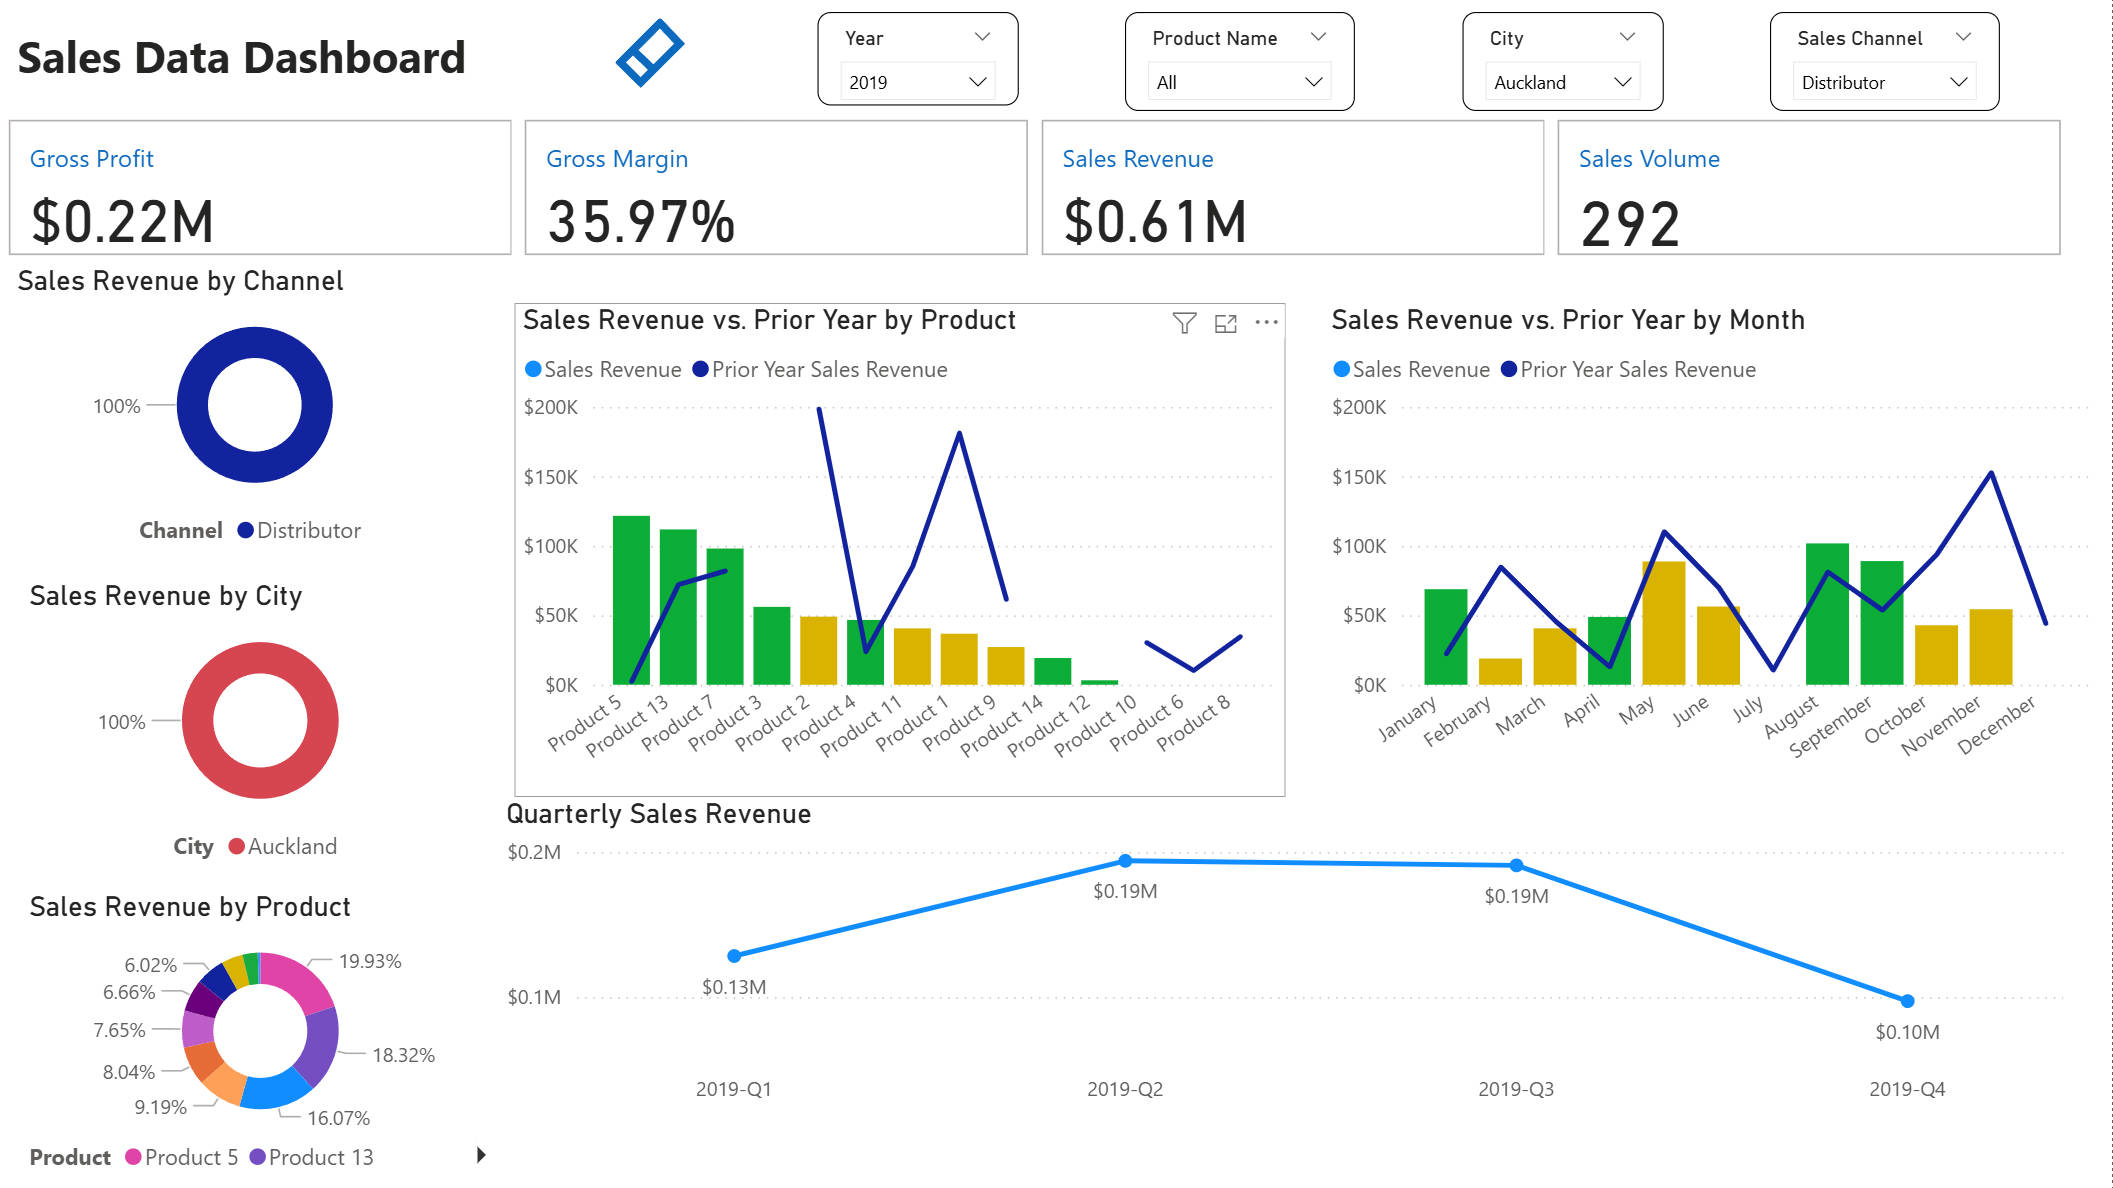

Layout of this report page (visuals, bound fields, positions):
{"tool":"powerbi","page":{"name":"Page 1","canvas":[1280,720],"ordinal":0},"visuals":[{"type":"slicer","fields":{"Values":["dDate.Year"]},"box":[495.5,7.3,121.8,56.4],"z":0},{"type":"slicer","fields":{"Values":["Products_Data.产品名称"]},"box":[682.1,7.3,139.1,60],"z":1000},{"type":"slicer","fields":{"Values":["Regions_Table.城市"]},"box":[886.1,7.3,121.8,60],"z":2000},{"type":"slicer","fields":{"Values":["Sales_Data.销售渠道"]},"box":[1072.7,7.3,139.1,60],"z":3000},{"type":"cardVisual","fields":{"Data":["DAX Table.Gross Profit","DAX Table.Gross Margin","DAX Table.Sales Revenue","DAX Table.Sales Volume"]},"box":[0,77.7,1271.5,93.1],"z":4000},{"type":"donutChart","title":"Sales Revenue by Channel","fields":{"Category":["Sales_Data.销售渠道"],"Y":["DAX Table.Sales Revenue"]},"box":[7.7,177.7,297.7,170.8],"z":5000},{"type":"donutChart","title":"Sales Revenue by Product ","fields":{"Y":["DAX Table.Sales Revenue"],"Category":["Products_Data.产品名称"]},"box":[7.7,539.2,297.7,173.1],"z":6000},{"type":"donutChart","fields":{"Y":["DAX Table.Sales Revenue"],"Category":["Regions_Table.城市"]},"box":[7.7,356.9,297.7,173.8],"z":7000},{"type":"lineChart","title":"Quarterly Sales Revenue","fields":{"Category":["dDate.Year-Quarter"],"Y":["DAX Table.Sales Revenue"]},"box":[311.5,497.7,960,209.2],"z":8000},{"type":"lineClusteredColumnComboChart","title":"Sales Revenue vs. Prior Year by Product","fields":{"Category":["Products_Data.产品名称"],"Y":["DAX Table.Sales Revenue"],"Y2":["DAX Table.Prior Year Sales Revenue"]},"box":[311.5,183.8,470,307.7],"z":9000},{"type":"lineClusteredColumnComboChart","title":"Sales Revenue vs. Prior Year by Month","fields":{"Y":["DAX Table.Sales Revenue"],"Y2":["DAX Table.Prior Year Sales Revenue"],"Category":["dDate.Month"]},"box":[788.5,183.8,483.1,307.7],"z":10000},{"type":"actionButton","box":[427.7,12.3,48.5,46.2],"z":11000},{"type":"textbox","box":[65.4,15.4,296.9,62.3],"z":12000}]}

Visuals, with their boxes in screenshot pixels (x1, y1, x2, y2), scaled from the page's 1280x720 canvas onto the 2113x1188 screenshot:
slicer - dDate.Year: rect(818, 12, 1019, 105)
slicer - Products_Data.产品名称: rect(1126, 12, 1356, 111)
slicer - Regions_Table.城市: rect(1463, 12, 1664, 111)
slicer - Sales_Data.销售渠道: rect(1771, 12, 2000, 111)
cardVisual - DAX Table.Gross Profit x DAX Table.Gross Margin: rect(0, 128, 2099, 282)
"Sales Revenue by Channel" donutChart: rect(13, 293, 504, 575)
"Sales Revenue by Product " donutChart: rect(13, 890, 504, 1175)
donutChart - DAX Table.Sales Revenue x Regions_Table.城市: rect(13, 589, 504, 876)
"Quarterly Sales Revenue" lineChart: rect(514, 821, 2099, 1166)
"Sales Revenue vs. Prior Year by Product" lineClusteredColumnComboChart: rect(514, 303, 1290, 811)
"Sales Revenue vs. Prior Year by Month" lineClusteredColumnComboChart: rect(1302, 303, 2099, 811)
actionButton: rect(706, 20, 786, 97)
textbox: rect(108, 25, 598, 128)
